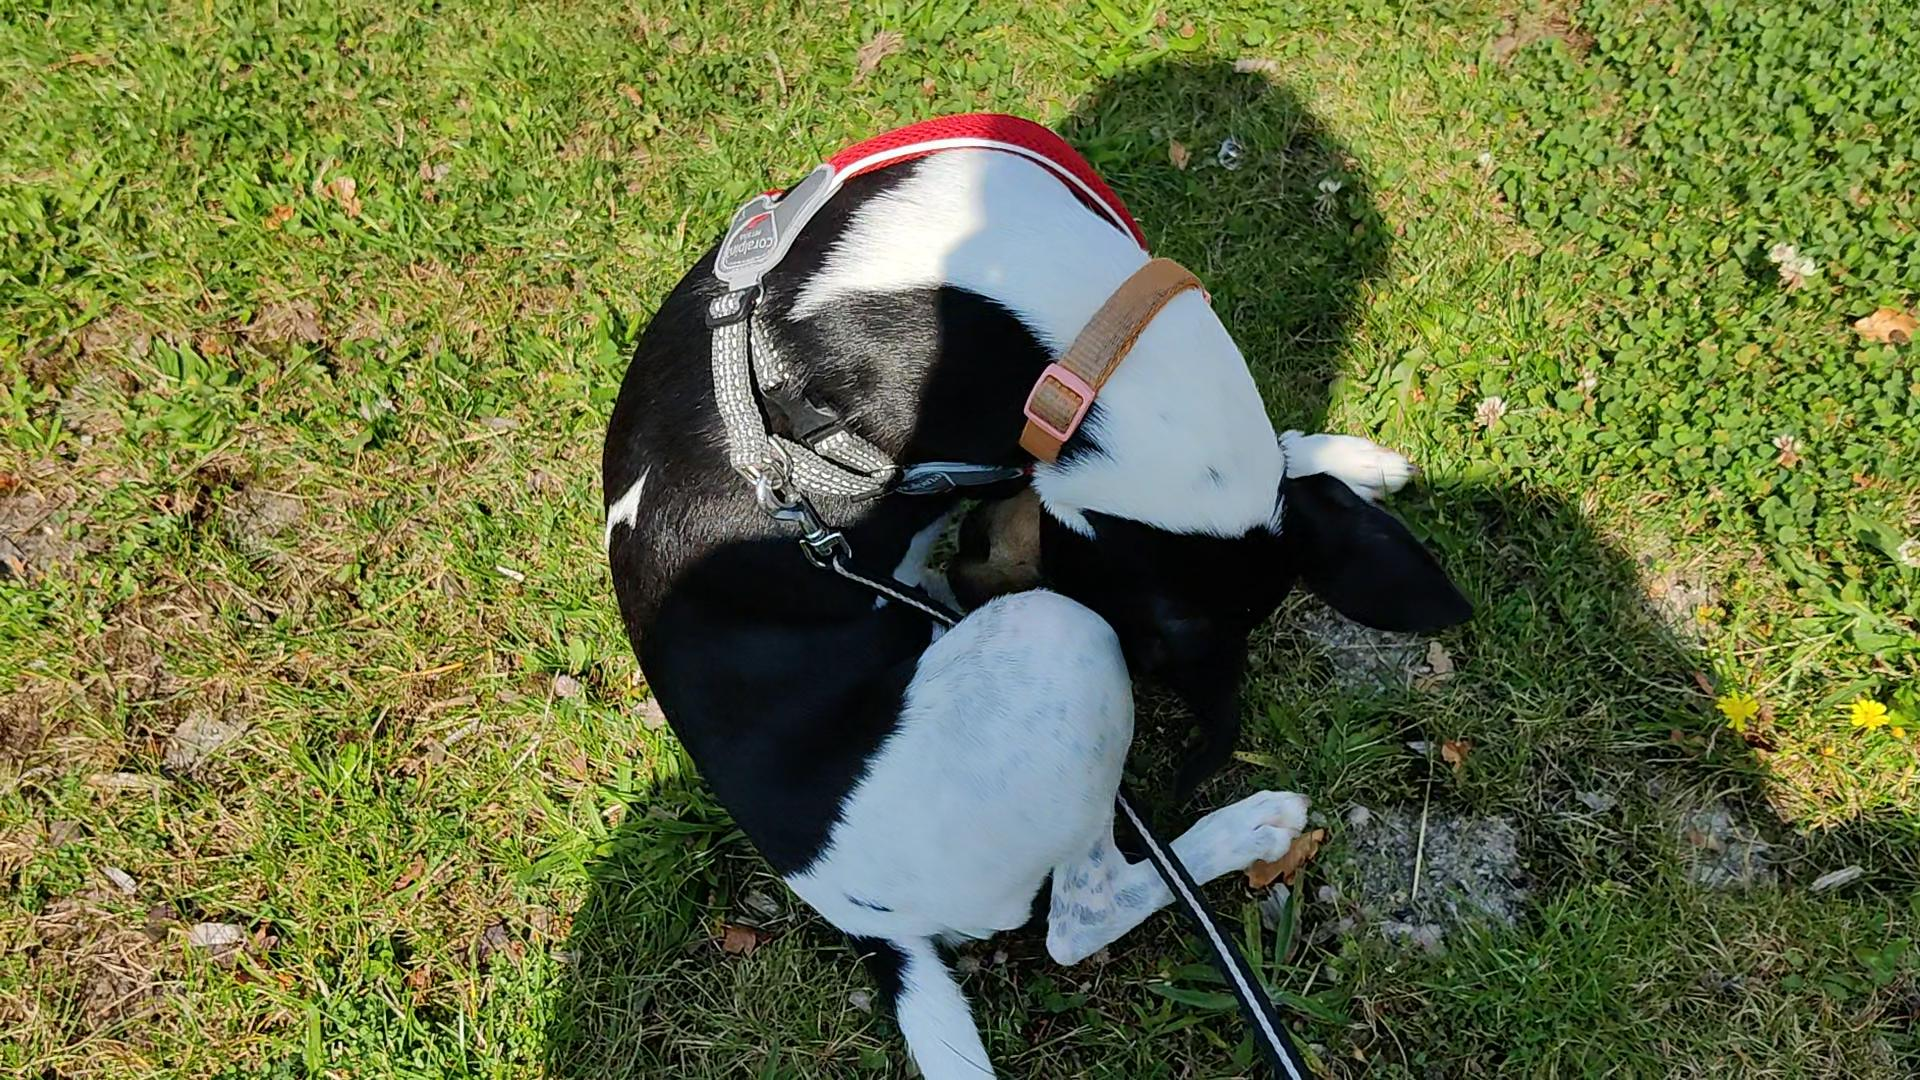Dog: (593, 102, 1477, 1079)
